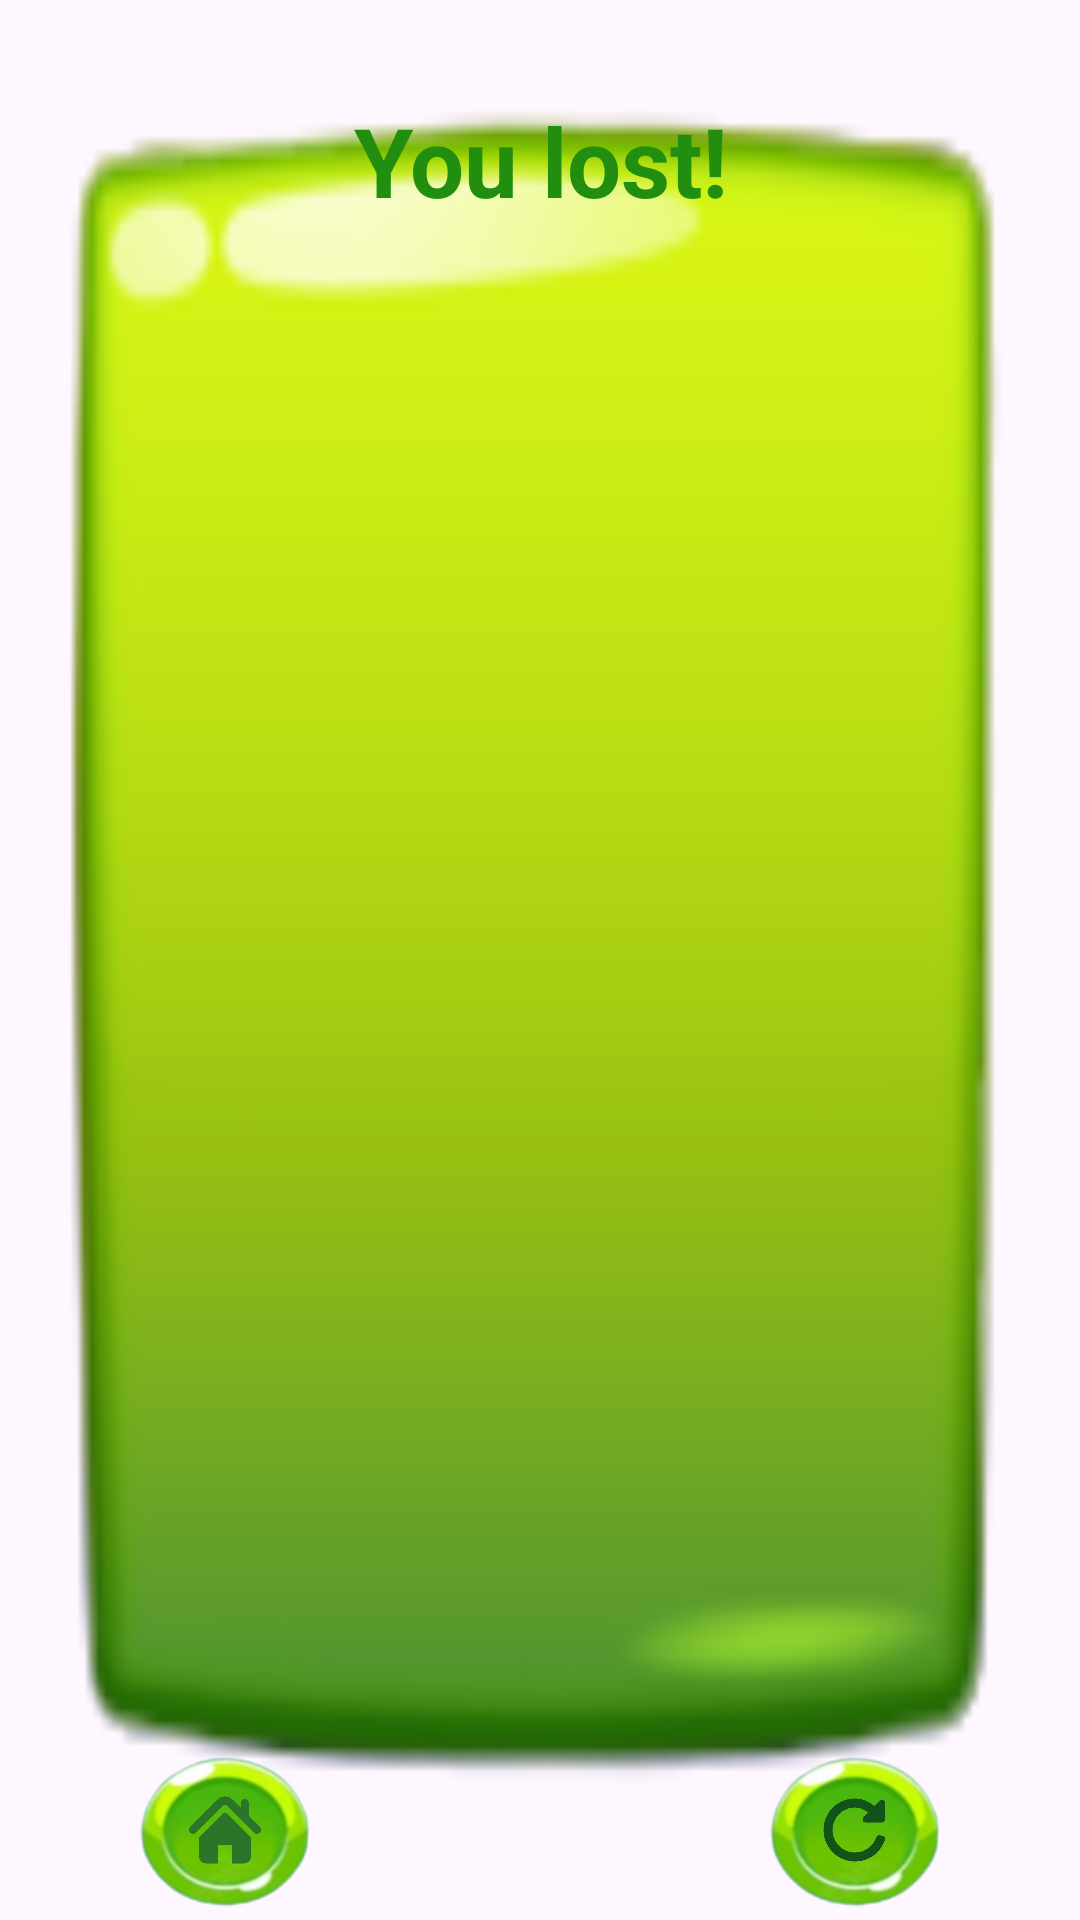

Icon bounding boxes for this 1080px×1920px phone screenshot, format bbox=[x1, y1, x2, y2]:
home: bbox=[141, 1757, 309, 1906]
restart: bbox=[771, 1757, 939, 1906]
